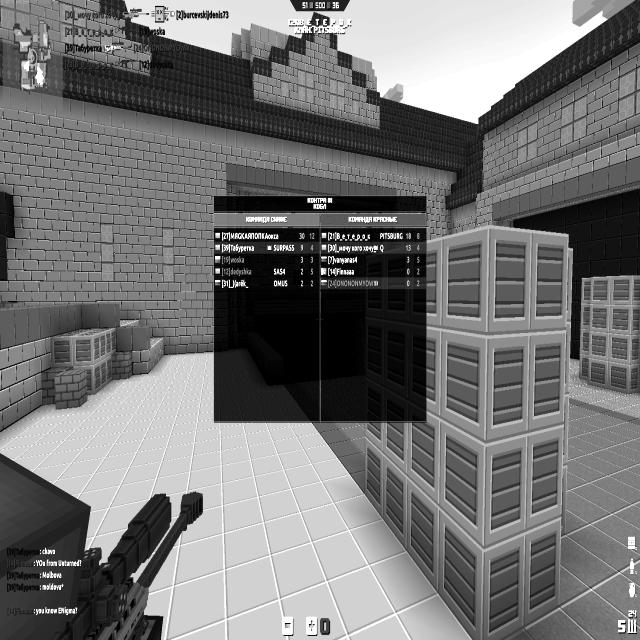Head: (0, 455, 91, 640)
Player: (0, 451, 204, 639)
